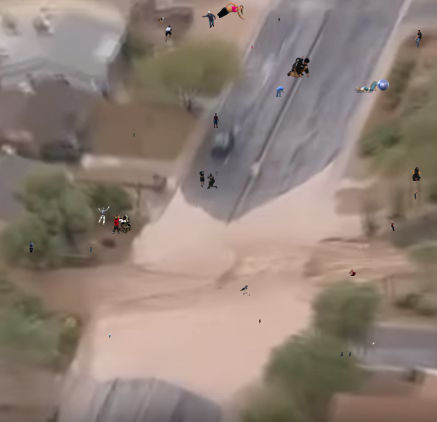Human: (287, 56, 310, 78), (354, 79, 390, 93), (217, 2, 245, 20), (198, 169, 219, 189), (112, 215, 132, 234), (165, 25, 180, 43), (276, 86, 300, 97), (201, 11, 216, 28), (98, 206, 110, 226), (413, 30, 422, 48), (412, 167, 421, 181), (213, 113, 219, 128), (340, 351, 351, 357), (29, 241, 34, 253), (389, 222, 395, 231), (349, 269, 356, 276), (240, 285, 248, 291), (158, 17, 164, 24), (243, 292, 250, 296), (414, 191, 417, 200), (196, 205, 200, 208), (372, 342, 375, 346), (133, 132, 135, 137), (109, 333, 111, 338), (90, 247, 92, 252), (278, 17, 280, 22), (259, 319, 261, 324), (251, 44, 253, 49), (219, 287, 222, 290)
